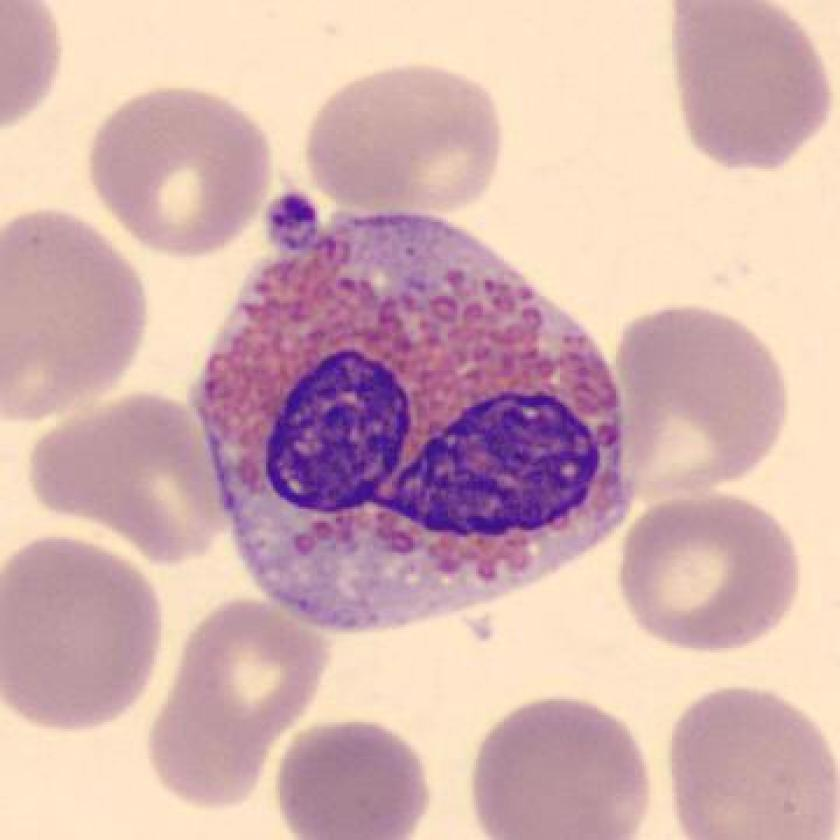eosinophil: (181, 200, 652, 656)
